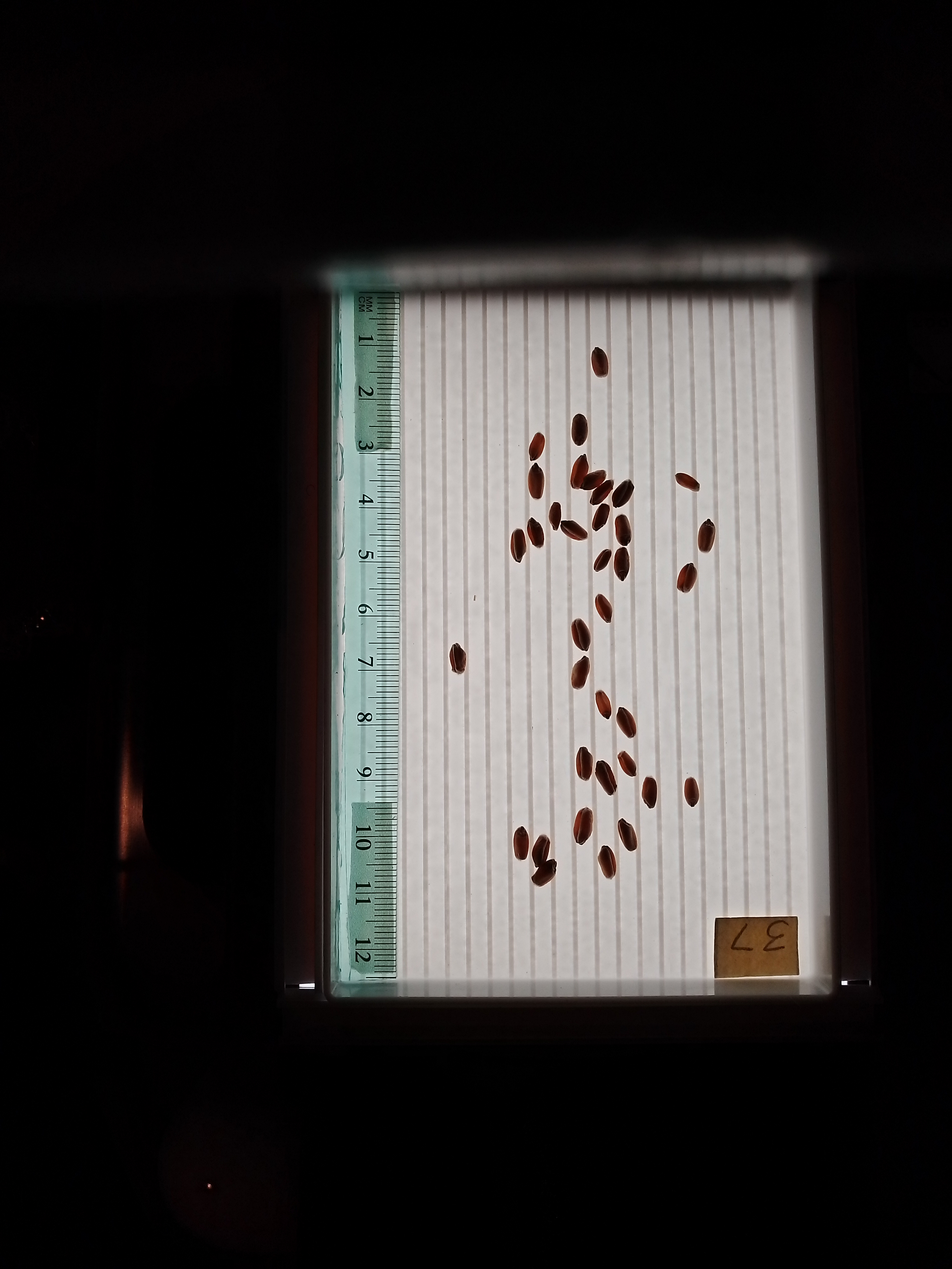seed mask: (573, 808, 593, 845), (595, 761, 617, 794), (618, 819, 638, 851), (570, 456, 589, 489), (572, 618, 591, 651), (612, 480, 634, 508), (598, 846, 617, 878), (617, 707, 637, 737), (532, 835, 550, 868), (571, 658, 590, 689), (677, 564, 697, 593), (576, 747, 593, 781), (532, 861, 556, 885), (510, 529, 527, 562), (698, 520, 715, 553), (591, 480, 613, 505), (562, 519, 587, 541), (571, 414, 588, 446), (528, 466, 544, 498), (513, 828, 529, 860), (614, 549, 630, 580), (450, 644, 466, 674), (592, 348, 609, 376), (618, 752, 637, 777), (642, 777, 657, 808), (615, 516, 631, 545), (528, 519, 544, 547), (596, 595, 612, 623), (583, 470, 605, 490), (529, 433, 545, 460), (596, 691, 612, 718), (684, 778, 699, 806), (593, 505, 609, 531), (677, 473, 699, 491), (595, 550, 610, 571), (550, 503, 562, 529)
